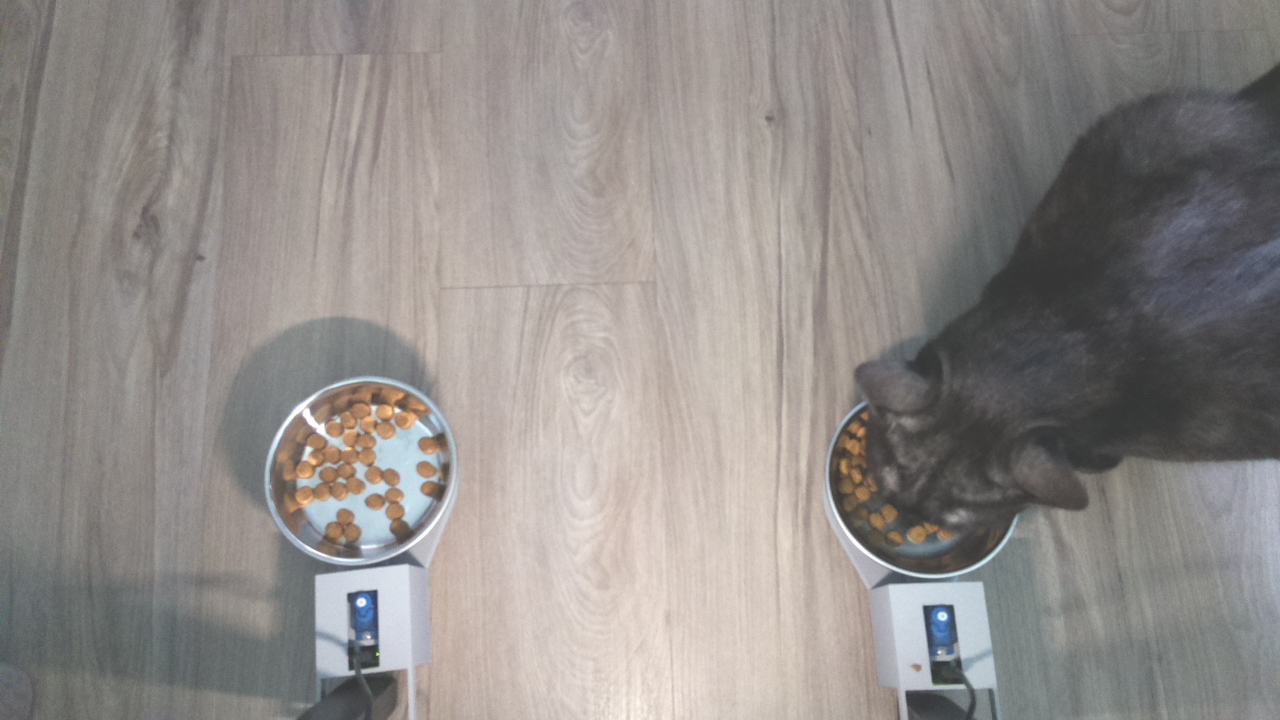open_bowl: (261, 375, 464, 576)
saki_eating: (829, 326, 1099, 589)
